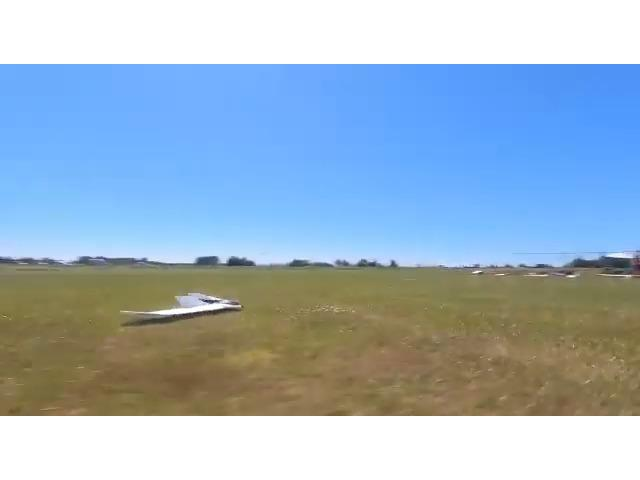Anti-Drone: (107, 280, 255, 338)
